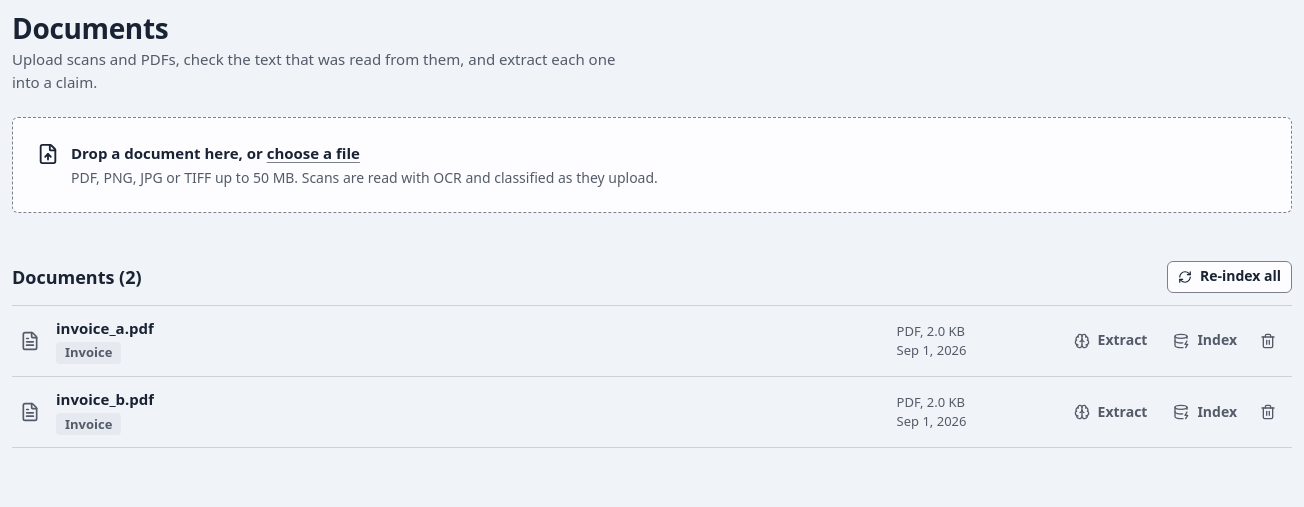
DocumentsPage › restores a document in place when the delete request fails
Click the button named "Delete invoice_a.pdf" at [1268, 341], box [1252,325,1284,357]
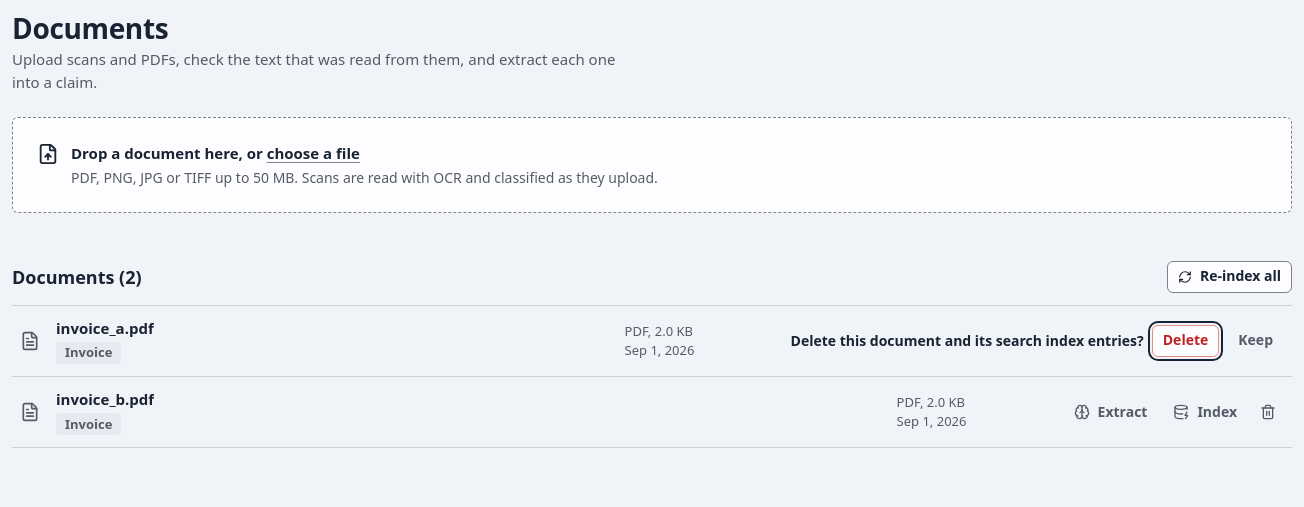
Click the button "Delete" at [1186, 341], box [1152,325,1219,357]
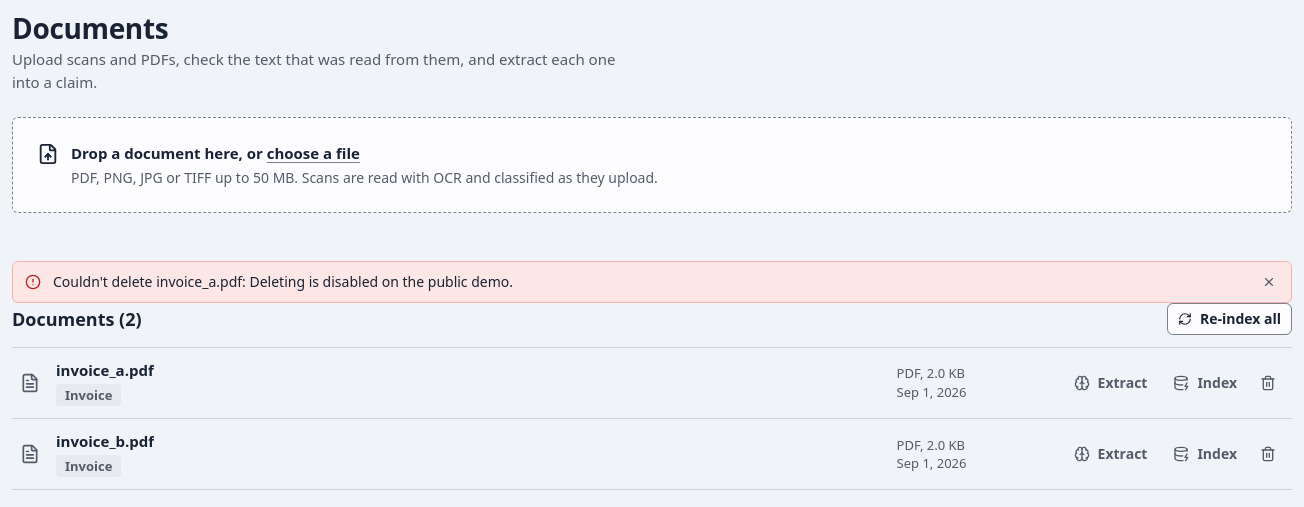
Expected: the heading "Documents (2)" is shown, [12,308,142,330]
Now the text "Deleting is disabled on the public demo." is shown, box [53,272,513,291]
